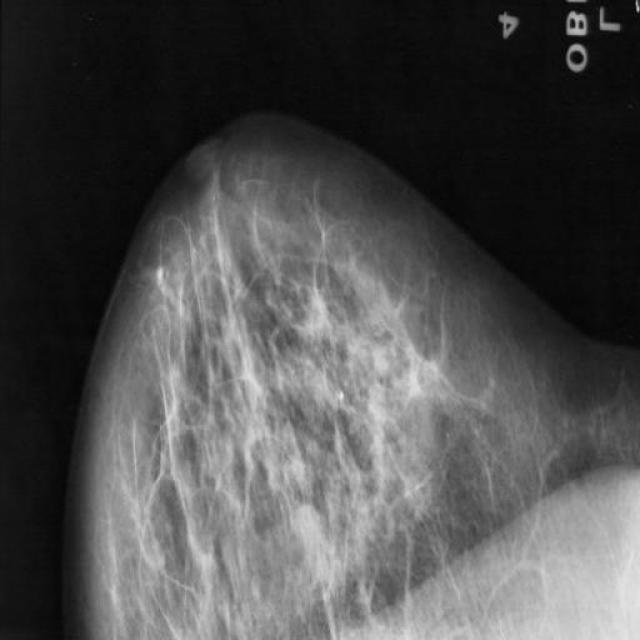cancer: (290, 236, 360, 354)
